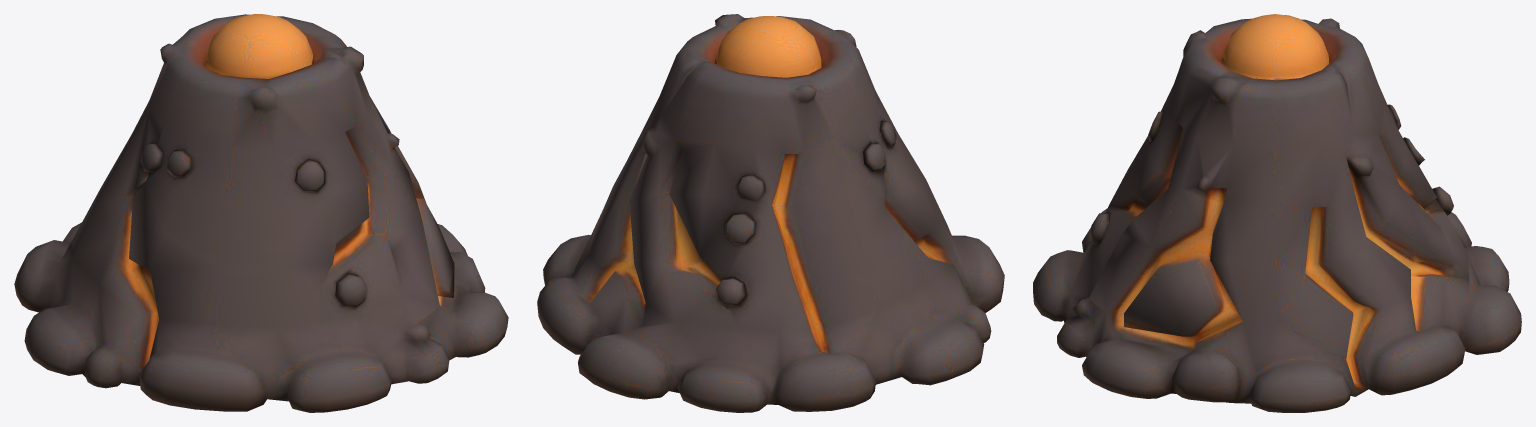
3 renders of one model, left to right at view 1: azimuth 30°, elevation 25°; view 2: azimuth 150°, elevation 25°; view 3: azimuth 270°, elevation 25°, orthographic.
Parts seen in each view (by area): view 1: tripo_node_54bef4cd-b389-4a46-9946-710a1537a90e; view 2: tripo_node_54bef4cd-b389-4a46-9946-710a1537a90e; view 3: tripo_node_54bef4cd-b389-4a46-9946-710a1537a90e.
Boxes of the visible parts, x1=… form: tripo_node_54bef4cd-b389-4a46-9946-710a1537a90e: x1=14, y1=14, x2=508, y2=412; tripo_node_54bef4cd-b389-4a46-9946-710a1537a90e: x1=537, y1=14, x2=1004, y2=412; tripo_node_54bef4cd-b389-4a46-9946-710a1537a90e: x1=1033, y1=14, x2=1521, y2=412.
Bounding box in the file's own units: 0.998 × 0.6816 × 0.998.
Materials: 1 (1 with a texture image).
